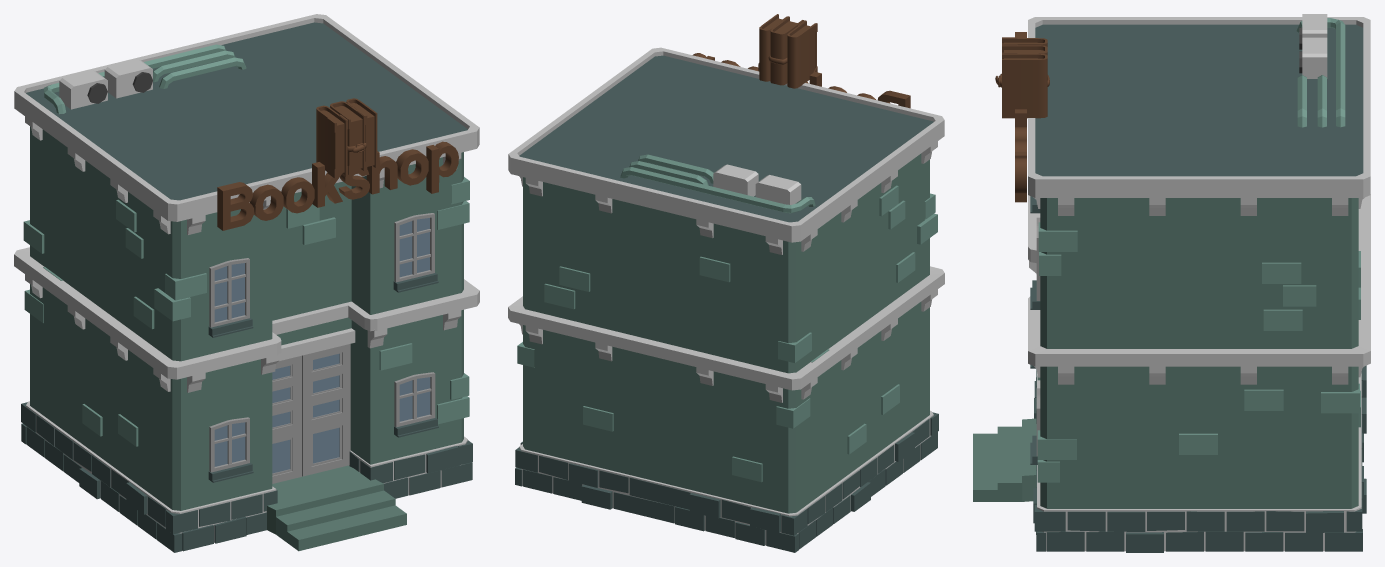
Rendered from Bookshop.fbx.
3 views of the same model, side by side, from view 1: azimuth 30°, elevation 25°; view 2: azimuth 150°, elevation 25°; view 3: azimuth 270°, elevation 25° (orthographic). The views are drawn at different scales.
Parts seen in each view (by area): view 1: 2Story_Center_Mat, Sign_Bookshop; view 2: 2Story_Center_Mat, Sign_Bookshop; view 3: 2Story_Center_Mat, Sign_Bookshop.
Part boxes in pixels (box(x1,y1,x2,y2)): 2Story_Center_Mat: box(14, 14, 479, 552); Sign_Bookshop: box(217, 98, 458, 230); 2Story_Center_Mat: box(508, 47, 944, 552); Sign_Bookshop: box(692, 14, 910, 108); 2Story_Center_Mat: box(973, 14, 1370, 552); Sign_Bookshop: box(995, 32, 1049, 202).
Bounding box in the file's own units: 242 × 301 × 250.
